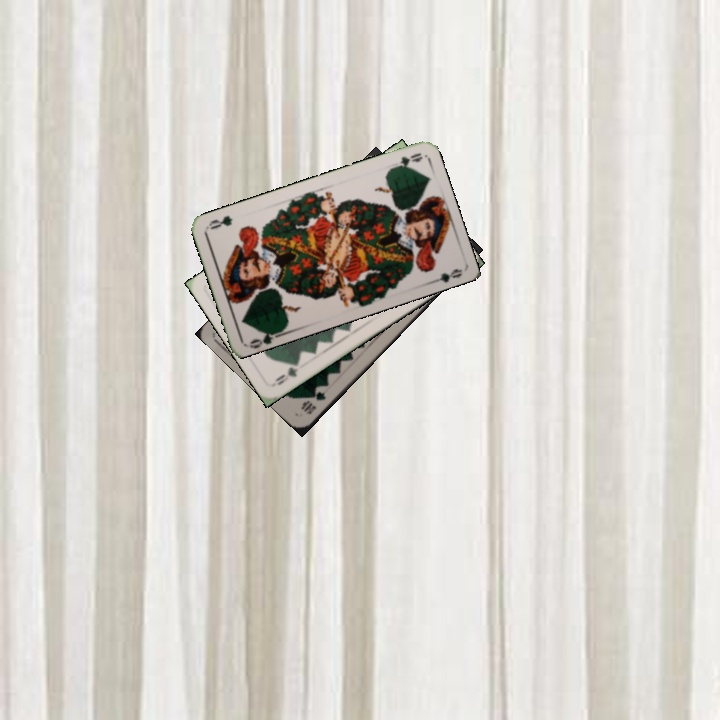G10: (297, 387, 329, 417)
G9: (271, 357, 302, 388)
GO: (246, 326, 285, 350), (385, 149, 424, 173)
